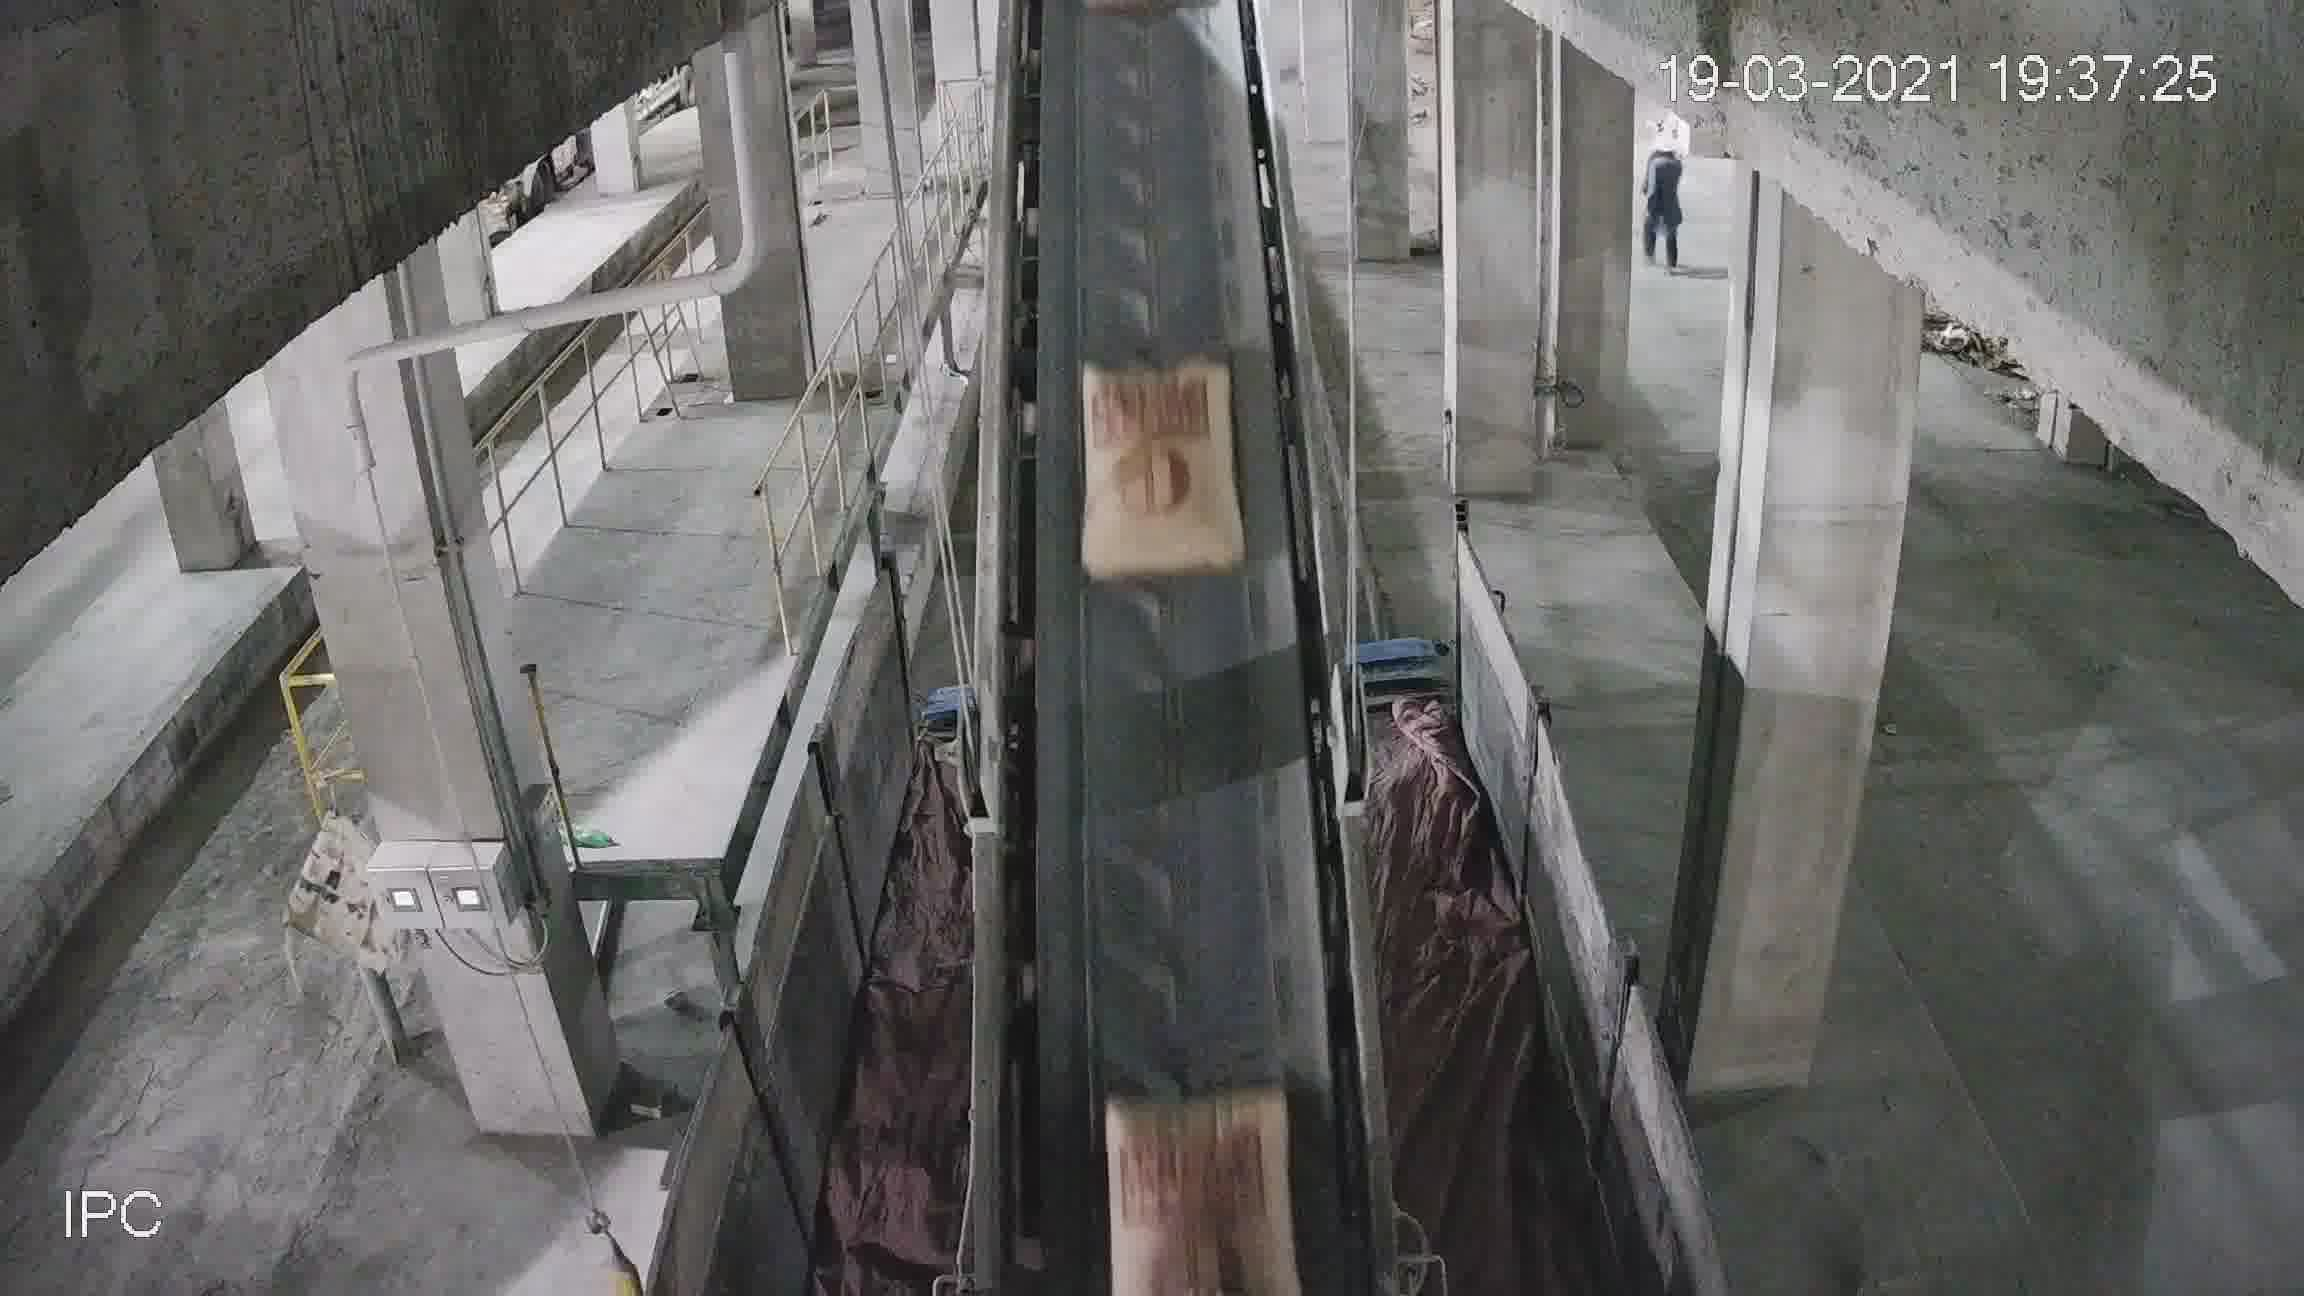bag: (1087, 361, 1237, 581), (1106, 1089, 1280, 1174)
belt: (976, 119, 1361, 1195)
